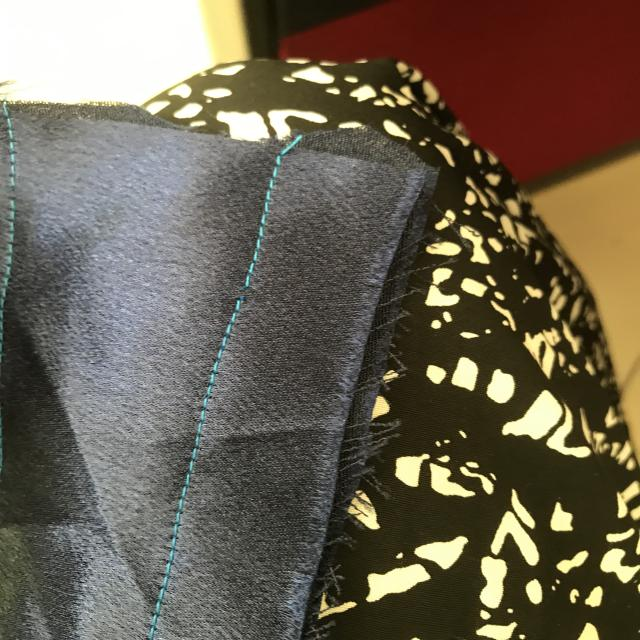broken: (226, 273, 264, 313)
good: (149, 447, 208, 596), (206, 324, 227, 409), (253, 170, 277, 244)
